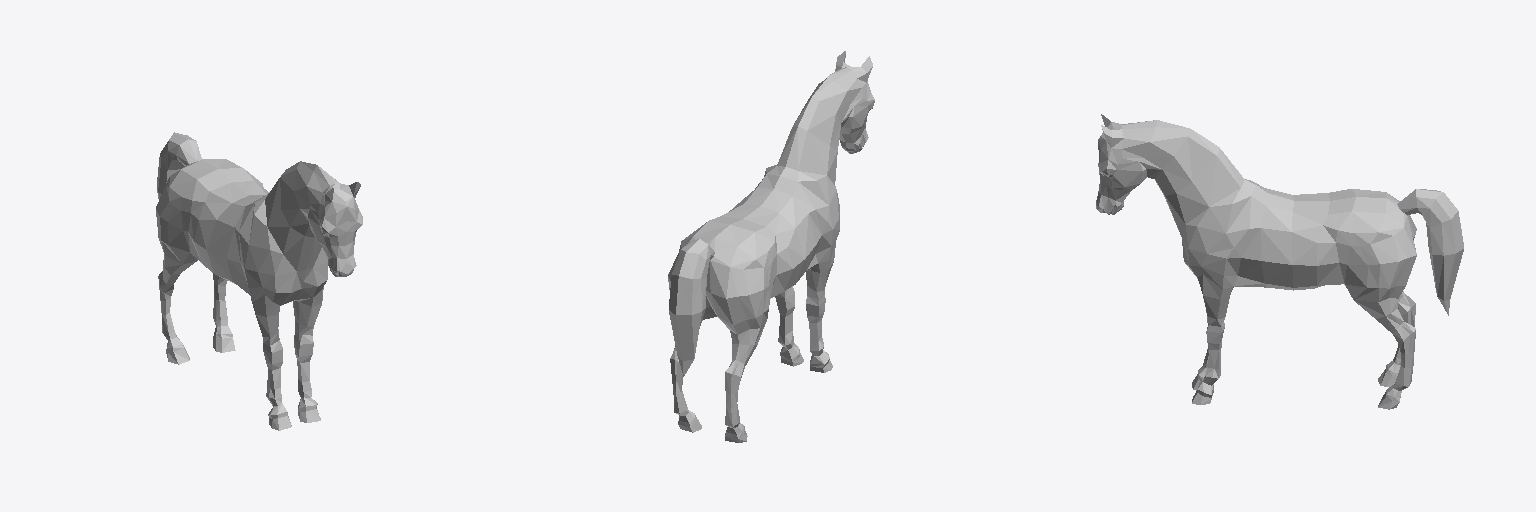
File: horse134.obj
3 renders of one model, left to right at view 1: azimuth 30°, elevation 25°; view 2: azimuth 150°, elevation 25°; view 3: azimuth 270°, elevation 25°, orthographic.
Size of the model in its own units: 3.81 by 10.89 by 13.24.